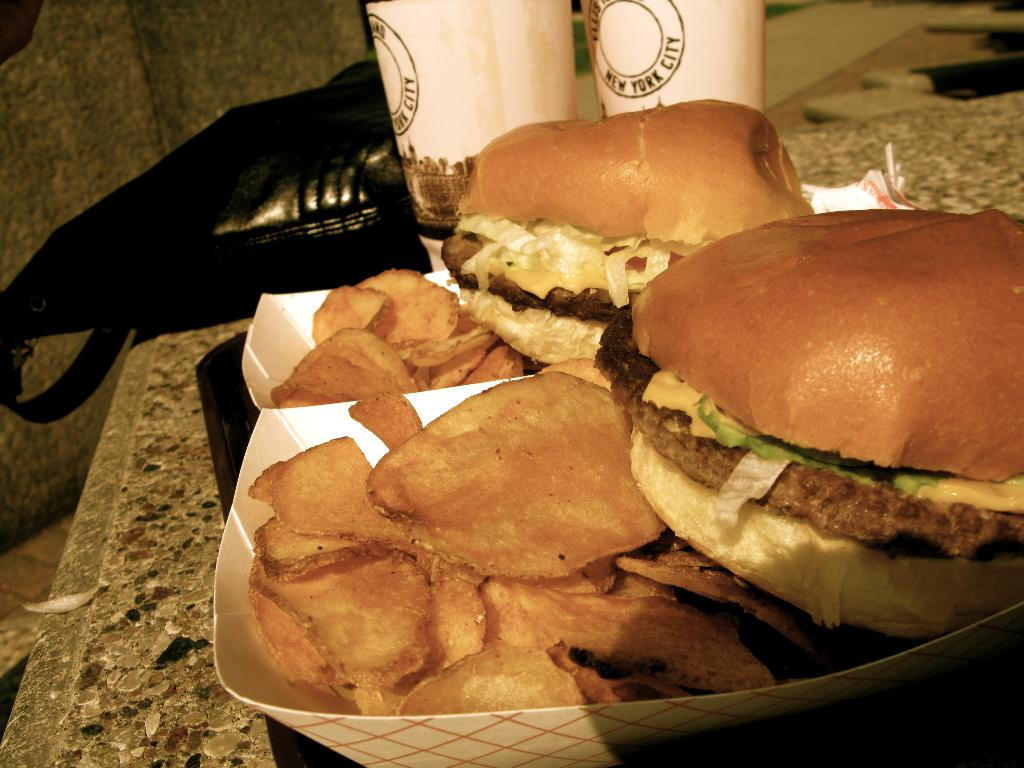Hamburger: (590, 208, 1023, 642), (441, 100, 808, 362)
